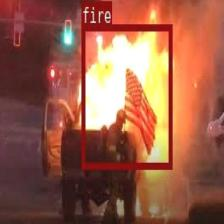fire: (81, 23, 171, 168)
